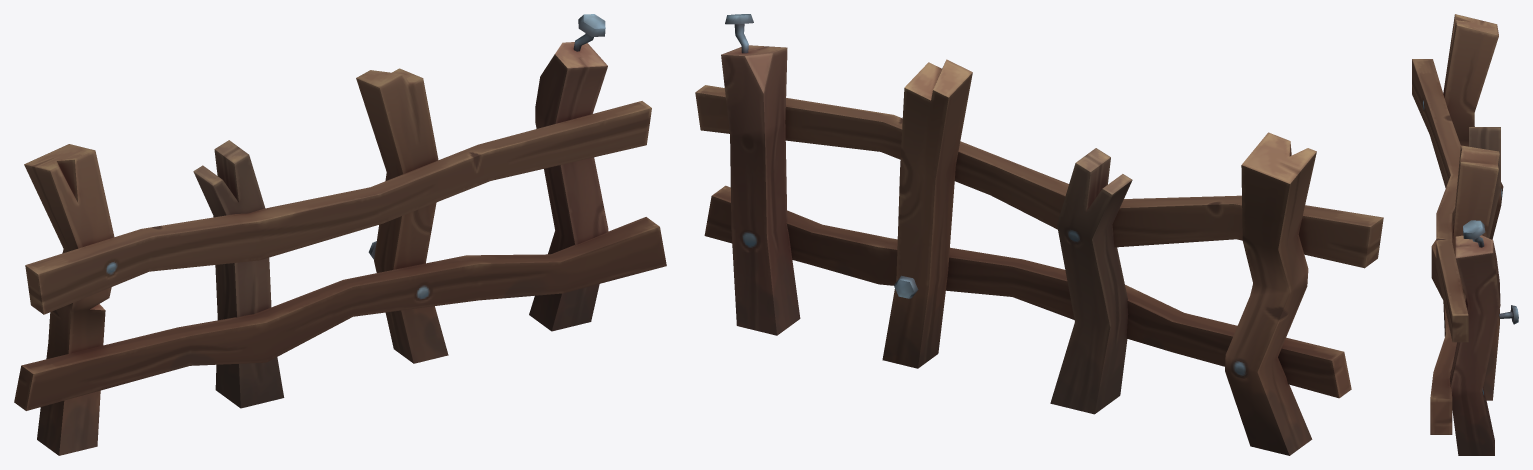
Rendered from wooden_fence.fbx.
3 renders of one model, left to right at view 1: azimuth 30°, elevation 25°; view 2: azimuth 150°, elevation 25°; view 3: azimuth 270°, elevation 25°, orthographic. The views are drawn at different scales.
Visible parts, largest first — view 1: wooden_fence; view 2: wooden_fence; view 3: wooden_fence.
Part boxes in pixels (left/top/right/bottom): wooden_fence: left=14, top=14, right=666, bottom=455; wooden_fence: left=695, top=14, right=1383, bottom=455; wooden_fence: left=1412, top=14, right=1518, bottom=455.
Bounding box in the file's own units: 369 × 163 × 66.31.
